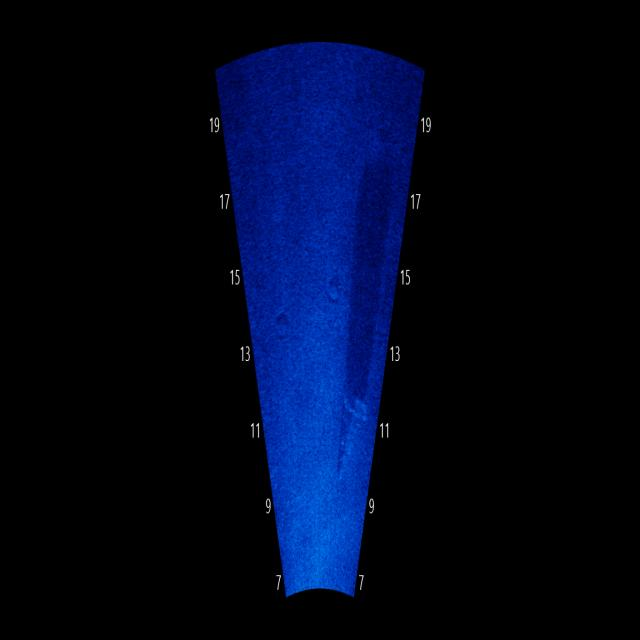circle: (269, 302, 299, 351), (320, 265, 347, 313)
triangle: (334, 377, 370, 490)
